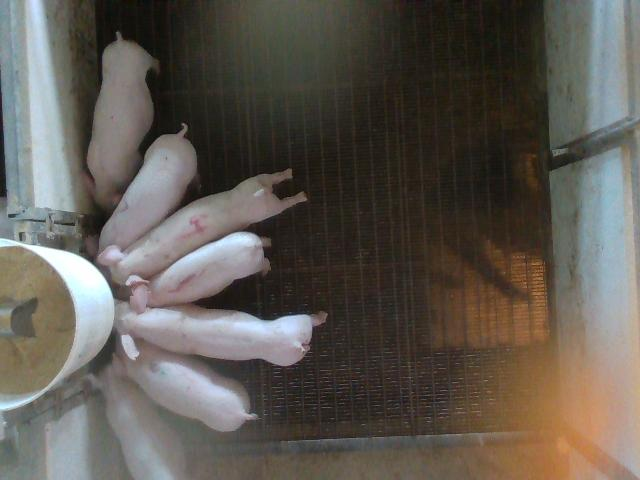pig-1: (148, 231, 271, 307)
pig-4: (98, 171, 304, 284)
